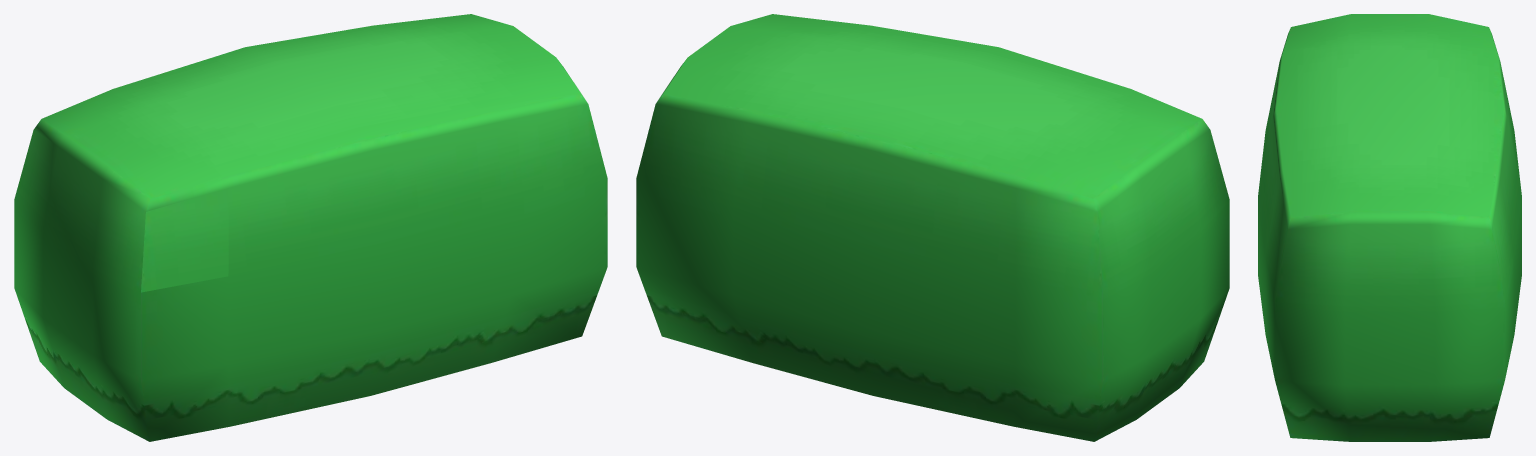
File: city_hedge.glb
3 renders of one model, left to right at view 1: azimuth 30°, elevation 25°; view 2: azimuth 150°, elevation 25°; view 3: azimuth 270°, elevation 25°, orthographic. The views are drawn at different scales.
Parts seen in each view (by area): view 1: city:polySurface302; view 2: city:polySurface302; view 3: city:polySurface302.
Boxes of the visible parts, <box> form: city:polySurface302: <box>14,14,607,441</box>; city:polySurface302: <box>636,14,1229,441</box>; city:polySurface302: <box>1258,14,1521,441</box>.
Size of the model in its own units: 1.64 by 0.8607 by 0.8504.
1 material, 1 textured.
